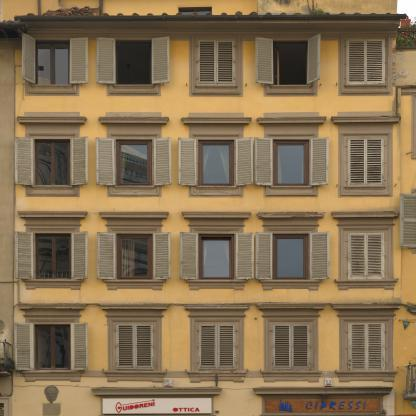Building Outline: (3, 0, 407, 416)
Cornice: (90, 386, 223, 396), (252, 386, 393, 395), (330, 115, 403, 125), (16, 302, 88, 311), (256, 116, 328, 125), (16, 116, 88, 125), (256, 302, 327, 311), (98, 116, 169, 125), (330, 210, 400, 219), (16, 211, 89, 219), (330, 302, 402, 310), (180, 117, 252, 125), (255, 211, 327, 219), (181, 211, 252, 219), (99, 211, 170, 219), (182, 303, 252, 311), (99, 303, 170, 310)
Deco: (44, 386, 60, 404)
Facade: (3, 1, 409, 415)
Floor: (14, 299, 402, 416), (14, 107, 402, 207), (14, 207, 402, 299), (14, 30, 402, 107)
Floor Slab: (14, 24, 402, 30), (14, 201, 402, 207), (14, 101, 402, 107), (14, 294, 402, 300), (14, 383, 402, 389)
Ground Floor: (14, 389, 401, 415)
Shop: (103, 398, 212, 413), (265, 399, 380, 412)
Sill: (104, 370, 167, 383), (336, 370, 398, 383), (261, 370, 322, 383), (335, 279, 399, 291), (21, 370, 85, 382), (186, 279, 249, 291), (186, 371, 248, 383), (22, 279, 85, 290), (259, 280, 322, 291), (104, 280, 167, 291), (269, 84, 313, 89), (31, 84, 74, 89), (112, 84, 155, 89), (344, 84, 387, 88), (195, 85, 238, 89)
Top Floor: (14, 0, 402, 30)
Window: (348, 323, 385, 371), (346, 39, 385, 84), (271, 40, 310, 85), (116, 139, 153, 186), (33, 39, 71, 84), (198, 40, 236, 85), (115, 40, 153, 85), (34, 139, 71, 185), (348, 233, 385, 279), (117, 324, 154, 370), (199, 324, 236, 370), (273, 324, 310, 370), (273, 139, 309, 186), (198, 140, 234, 186), (35, 233, 71, 279), (117, 234, 153, 280), (35, 324, 71, 370), (348, 139, 383, 186), (273, 234, 308, 280), (199, 234, 234, 280), (178, 7, 212, 29)
